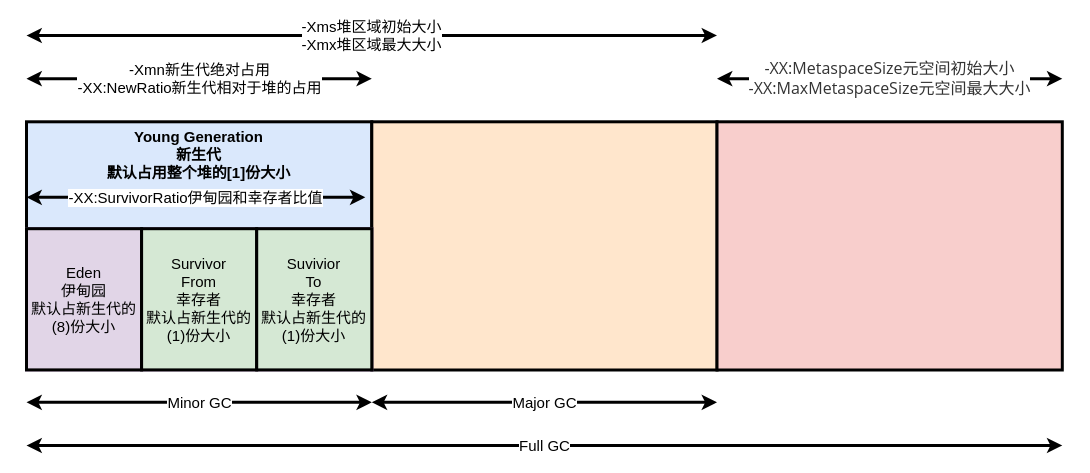
This 1090x473 diagram has some shape labels left out. The centre of each missing label's shape, as x and y in pixels:
Metaspace 元空间: (x=889, y=245)
Old Generation 老年代 默认占用整个堆的[2]份大小: (x=544, y=245)
